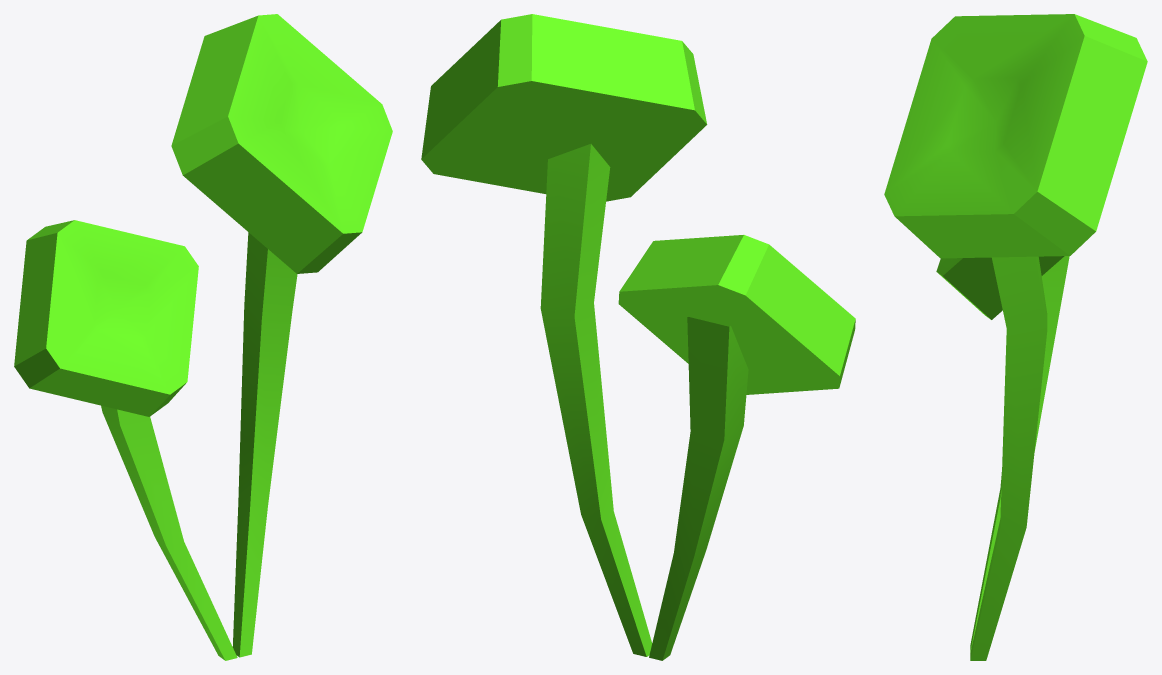
The model's file is SM_Flower_9.FBX.
3 views of the same model, side by side, from view 1: azimuth 30°, elevation 25°; view 2: azimuth 150°, elevation 25°; view 3: azimuth 270°, elevation 25° (orthographic). The views are drawn at different scales.
Visible parts, largest first — view 1: 9; view 2: 9; view 3: 9.
Boxes of the visible parts, x1,y1,x2,y2 form: 9: (14,14,392,660); 9: (421,14,855,660); 9: (884,14,1147,660).
Bounding box in the file's own units: 1.31 × 2.01 × 0.7116.
